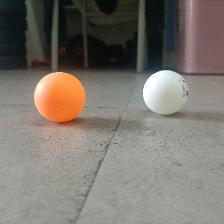WhiteBall: (140, 69, 188, 115)
YellowBall: (32, 72, 85, 121)
